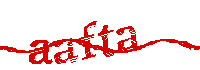a: (28, 39, 53, 66), (115, 25, 140, 52), (54, 37, 79, 64)
f: (78, 19, 97, 62)
t: (98, 22, 115, 58)
